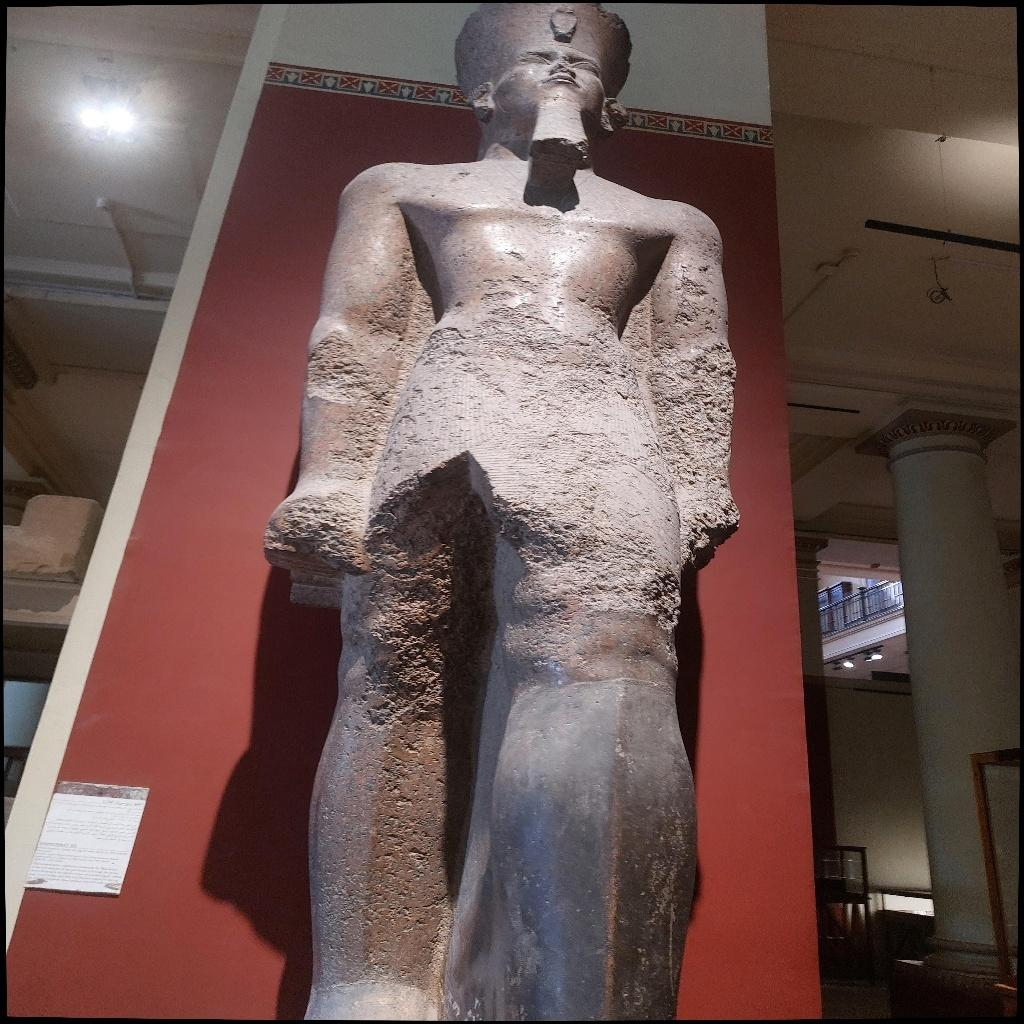Senwosret III: (260, 6, 744, 1018)
